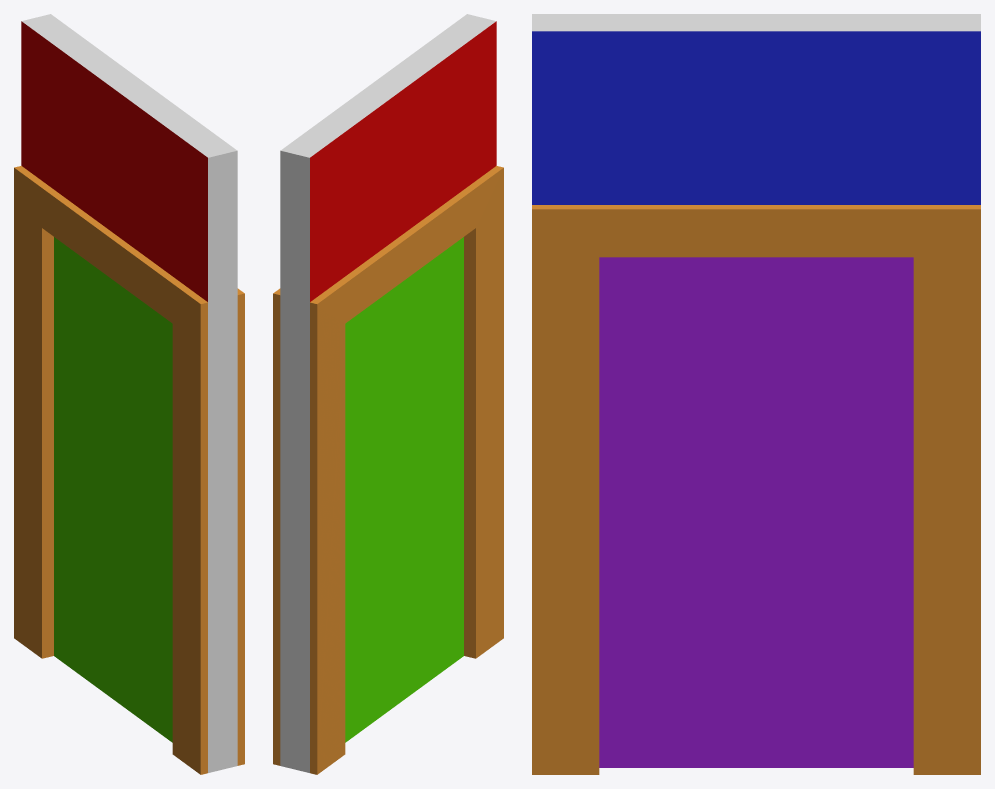
The model's file is Mesh_wall_door_doorframe_R.fbx.
3 renders of one model, left to right at view 1: azimuth 30°, elevation 25°; view 2: azimuth 150°, elevation 25°; view 3: azimuth 270°, elevation 25°, orthographic. The views are drawn at different scales.
Visible parts, largest first — view 1: mesh_wall_door, mesh_door; view 2: mesh_wall_door, mesh_door; view 3: mesh_wall_door, mesh_door.
Boxes of the visible parts, x1,y1,x2,y2 form: mesh_wall_door: [14, 14, 244, 774]; mesh_door: [54, 237, 172, 742]; mesh_wall_door: [273, 14, 503, 774]; mesh_door: [345, 237, 463, 742]; mesh_wall_door: [532, 14, 980, 774]; mesh_door: [599, 257, 913, 767].
Bounding box in the file's own units: 0.2437 × 3.25 × 1.79.
